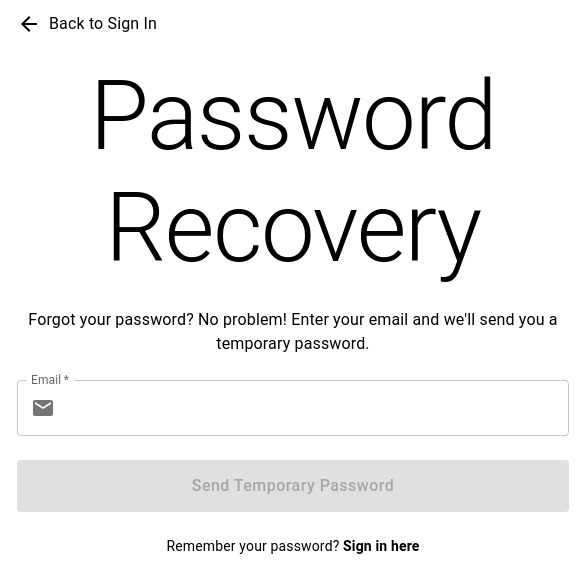
Scenario: PasswordRecoveryPage › Form Submission › should enable submit button when email is filled
Type "test@example.com" into the field labelled "Email *" at (316, 408), box [63,380,569,436]
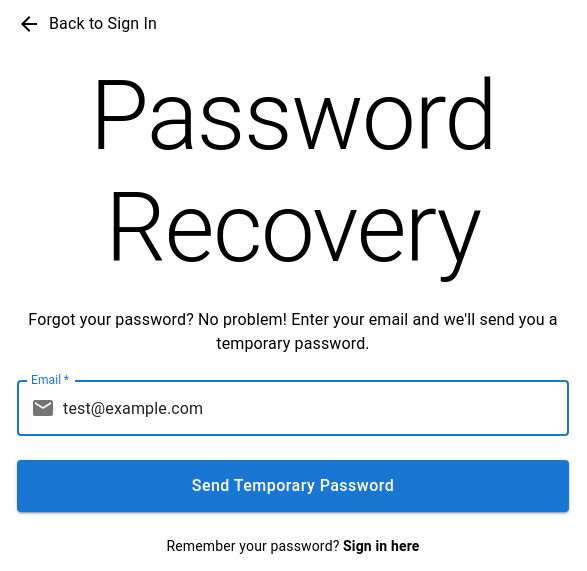
Result: the button "Send Temporary Password" is enabled at [17,460,569,512]
